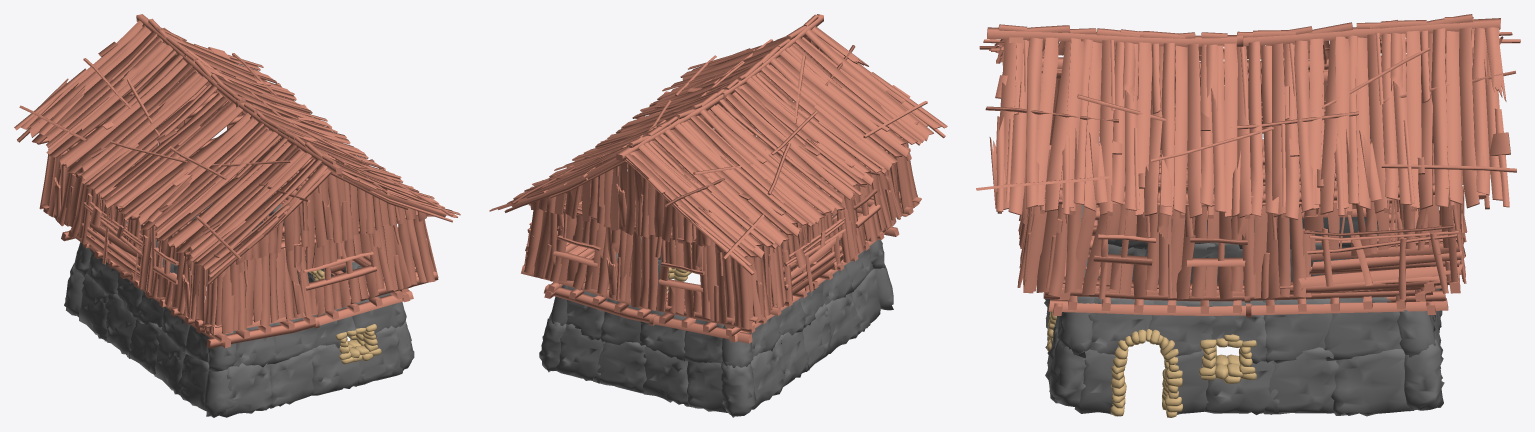
The model's file is house_11.fbx.
The picture shows the model from 3 angles, left to right: view 1: azimuth 30°, elevation 25°; view 2: azimuth 150°, elevation 25°; view 3: azimuth 270°, elevation 25°; orthographic projection. The views are drawn at different scales.
Parts seen in each view (by area): view 1: Plane.021; view 2: Plane.021; view 3: Plane.021.
Part boxes in pixels (x1=…): Plane.021: x1=14, y1=14, x2=460, y2=417; Plane.021: x1=489, y1=14, x2=947, y2=417; Plane.021: x1=976, y1=14, x2=1520, y2=417.
Bounding box in the file's own units: 12.68 × 12.54 × 18.31.
